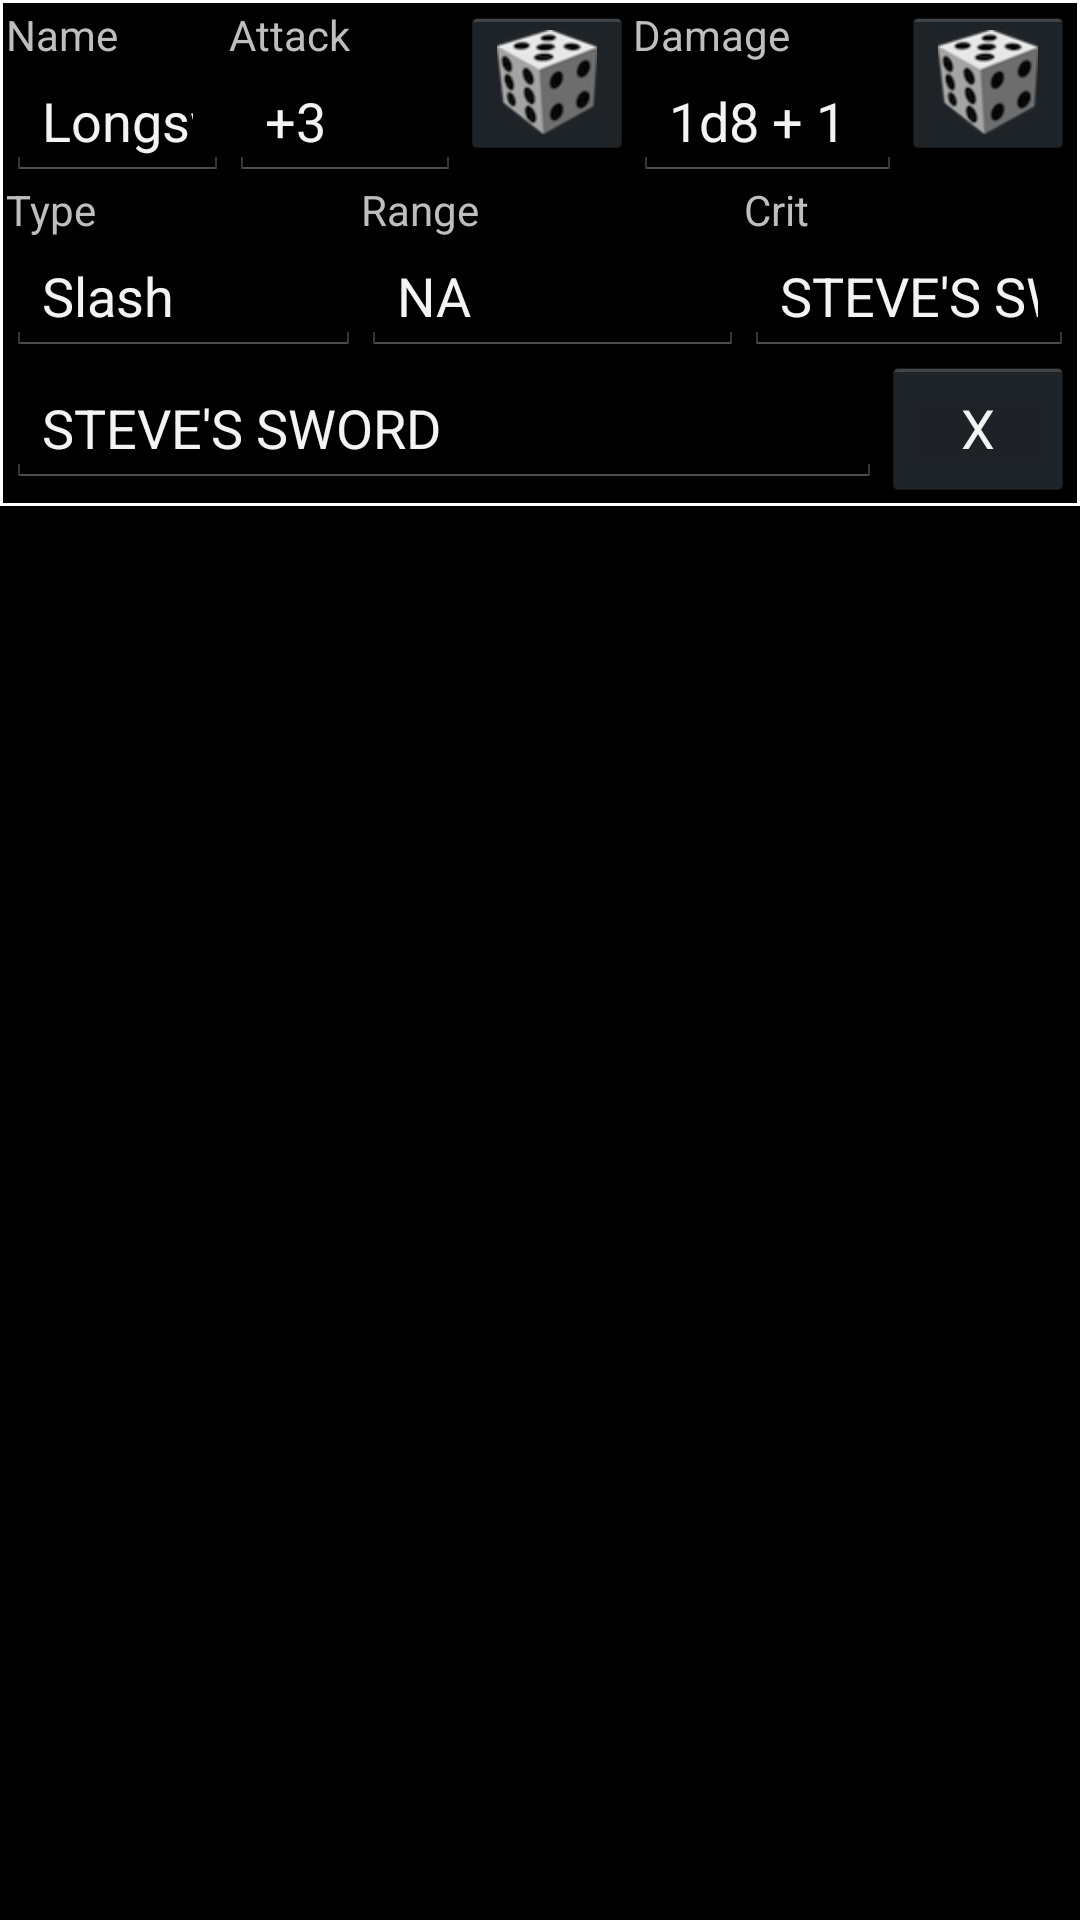

Icon bounding boxes for this 1080*1920 phone screenshot, format (x1, y1, x2, y2):
die roll: (473, 19, 621, 147), (914, 19, 1062, 147)
